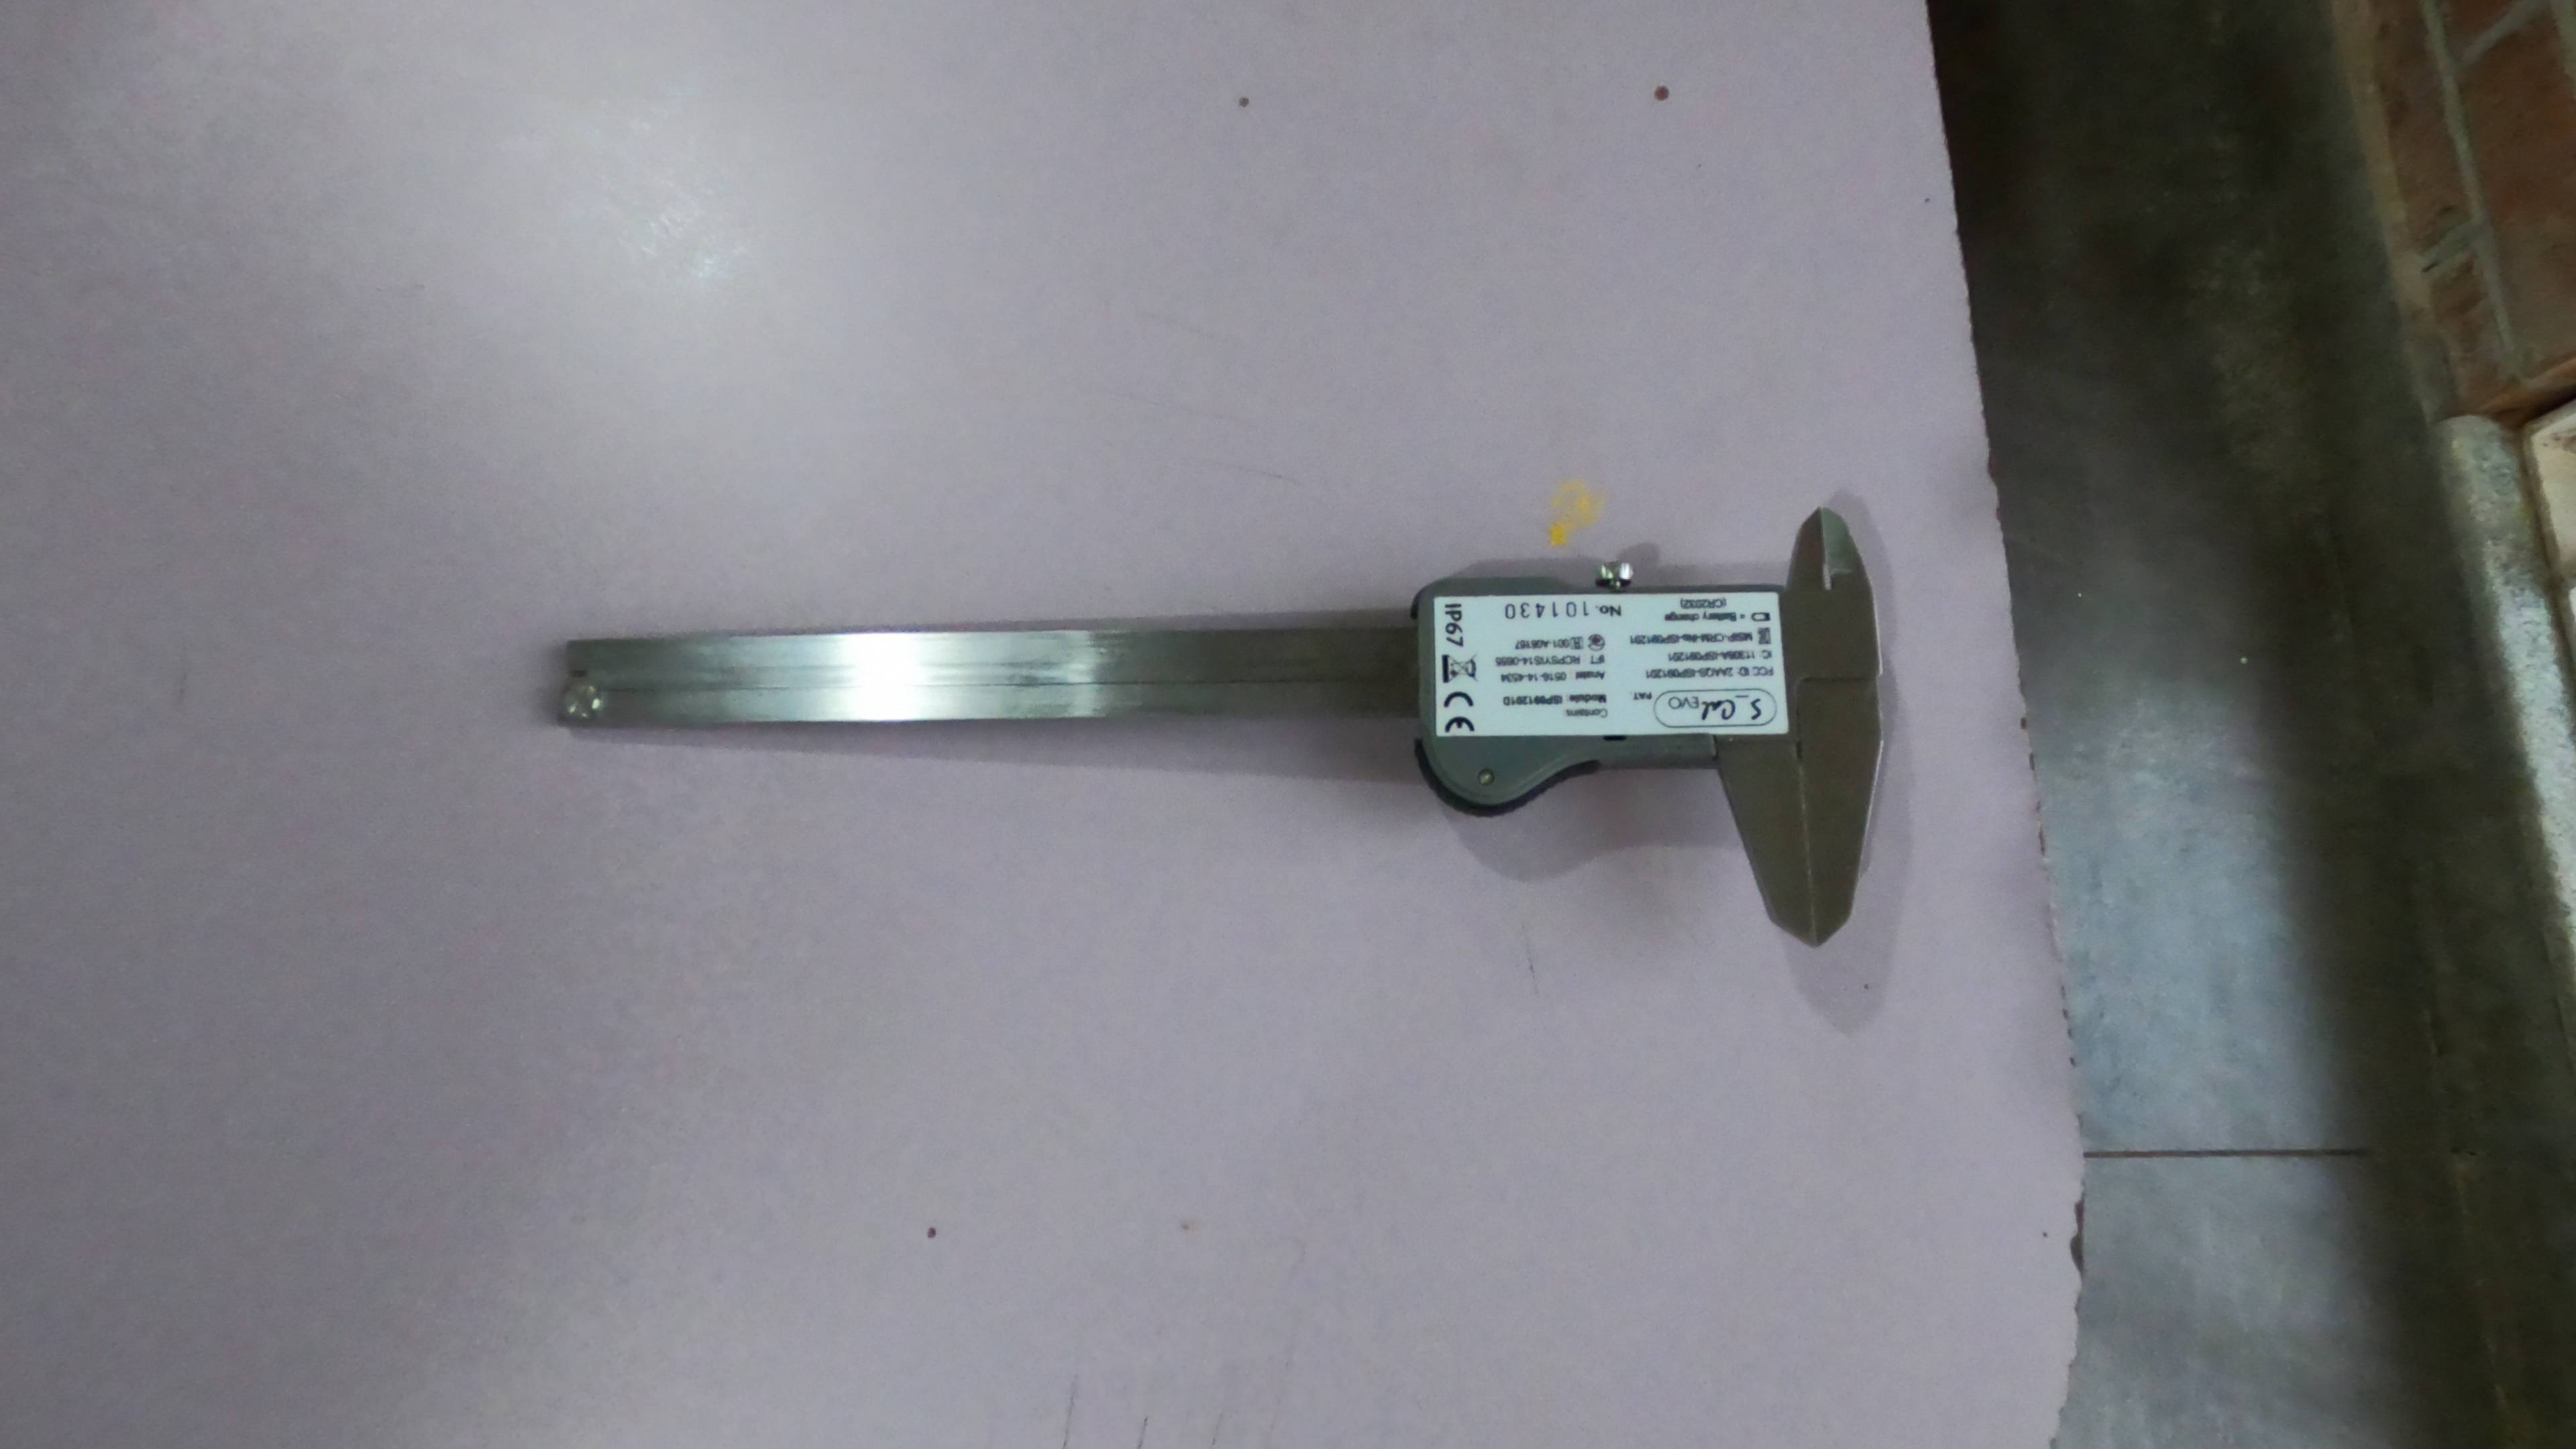vernier_caliper: (550, 502, 1891, 950)
